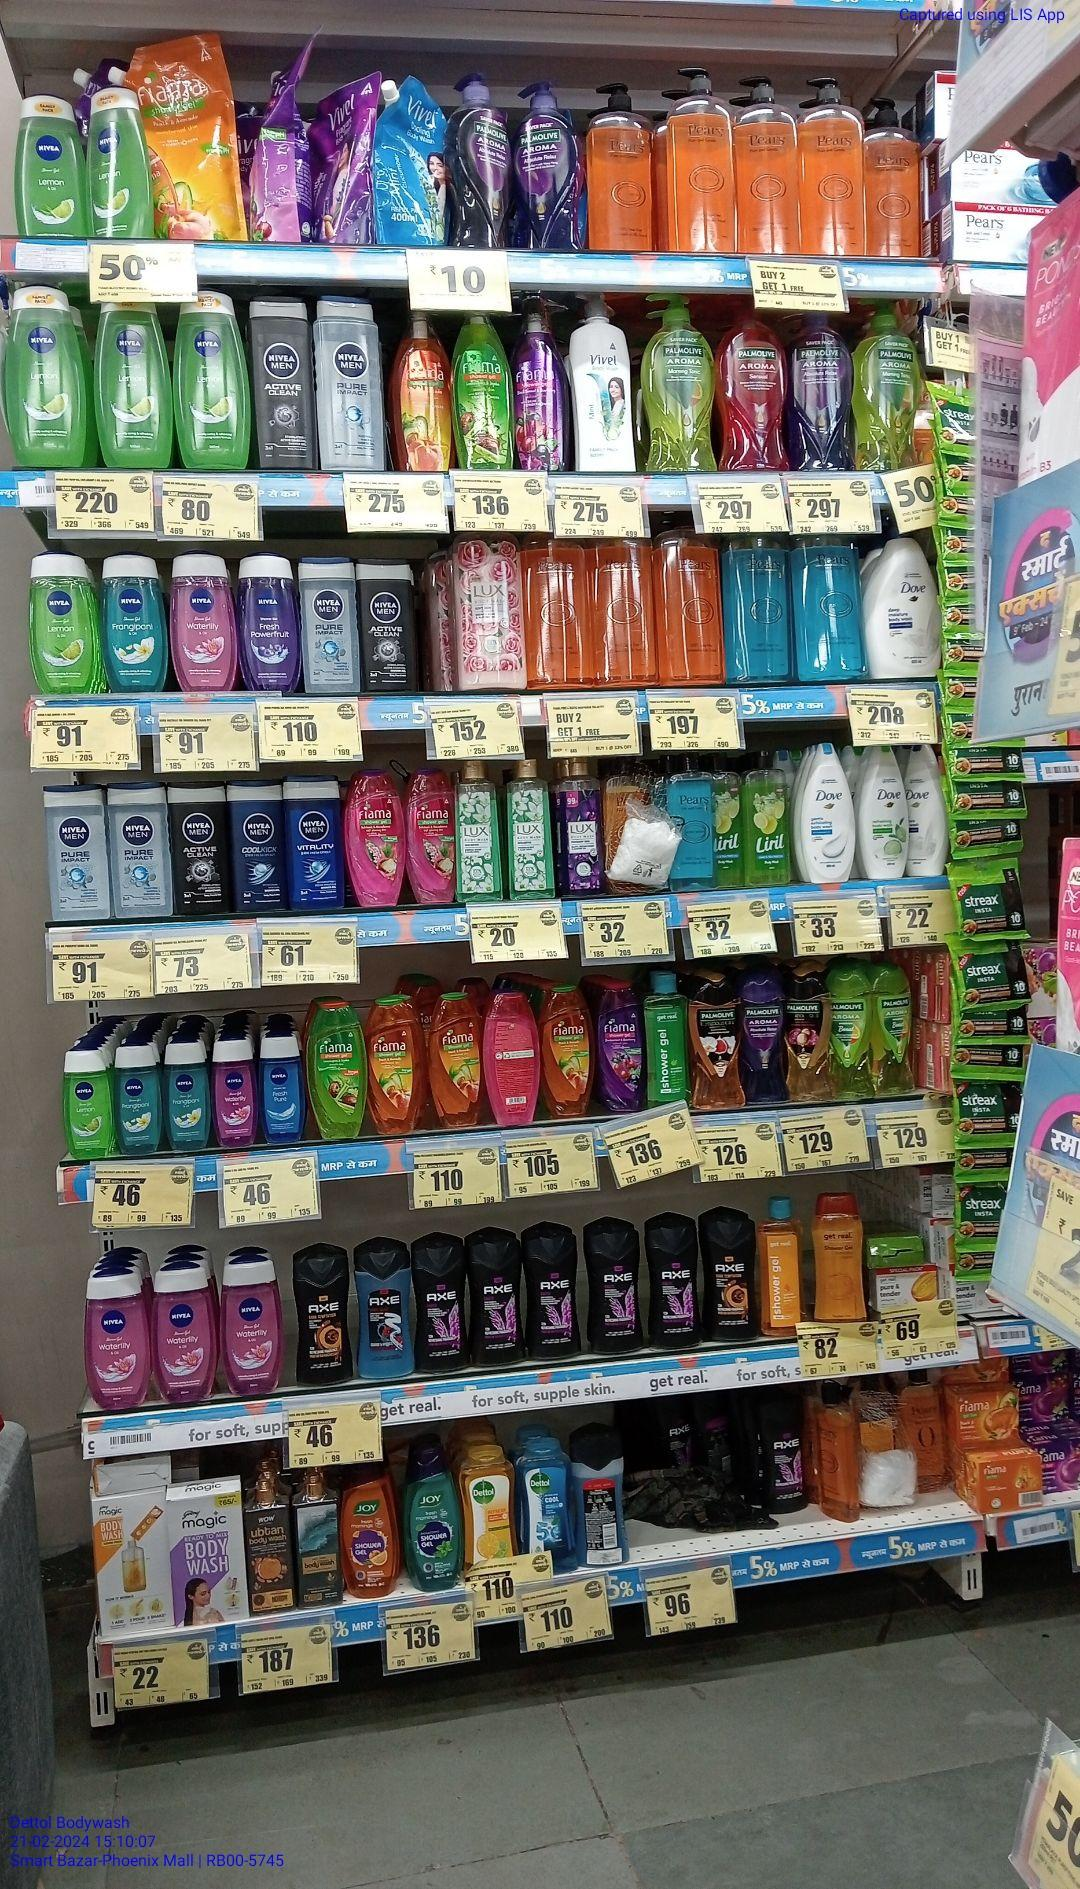Dettol_Bodywash_Cool: (515, 1435, 571, 1552)
Dettol_Bodywash_Refresh: (461, 1441, 517, 1558)
Dove_Gentle_Exfoliating_Body_Wash_250ML: (800, 741, 855, 885)
Dove_Refreshing_Body_Wash_250ML: (858, 746, 909, 878)
Fiama_Shower_Gel_Lemongrass_and_Jojoba_250ML: (305, 1000, 367, 1140)
Fiama_Shower_Gel_Patchouli_and_Macadamia_250ML: (343, 767, 405, 906), (405, 765, 454, 902)
Fiama_Shower_Gel_Peach_and_Avocado_250ML: (365, 996, 419, 1134), (427, 991, 482, 1127), (541, 983, 595, 1117)
Get_Real_Shower_Gel_Moisturising_Glycerin_300ML: (809, 1188, 870, 1325)
Joy_Shower_Gel_Mandarin_and_Lemongrass_250ML: (340, 1462, 399, 1600)
Joy_Shower_Gel_Mint_and_Eucalyptus_250ML: (401, 1448, 462, 1589)
Liril_Lime_and_Tea_Tree_Oil_Body_Wash_250ML: (742, 749, 792, 886)
Lux_Black_Orchid_Scent_and_Juniper_Oil_Body_Wash_245ML: (556, 756, 604, 895)
Lux_Body_Wash_Skin_Detox_Freesia_Scent_and_Alove_Vera_245ML: (501, 756, 554, 898), (454, 759, 504, 900)
Nivea_Shower_Gel_Frangipani_and_Oil_250ML: (100, 550, 169, 690), (162, 1038, 212, 1153), (112, 1043, 162, 1153)
Nivea_Shower_Gel_Fresh_Powerfruit_250ML: (236, 550, 297, 690)
Nivea_Shower_Gel_Lemon_and_Oil_250ML: (5, 283, 88, 466), (173, 289, 251, 468), (92, 302, 171, 468), (84, 86, 154, 237), (13, 93, 87, 235), (26, 550, 93, 693), (61, 1048, 113, 1159)
Nivea_Shower_Gel_Waterlily_and_Oil_250ML: (169, 550, 239, 690), (148, 1261, 215, 1402), (83, 1268, 149, 1409), (219, 1253, 284, 1396), (210, 1037, 260, 1148)
Palmolive_Aroma_Morning_Tonic_Shower_Gel_250ML: (872, 963, 918, 1096), (833, 964, 872, 1099)
Palmolive_Aroma_Relax_250ML: (742, 972, 788, 1104)
Palmolive_Luminous_Oils_Invigorating_Macadamia_Oil_With_Peony_250ML: (787, 965, 832, 1099)
Palmolive_Luminous_Oils_With_White_Orchid_Shower_Gel_250ML: (688, 973, 744, 1109)
Pears_Pure_Glycerin_and_Mint_Extracts_Body_Wash_250ML: (791, 533, 866, 682), (722, 535, 792, 684)
